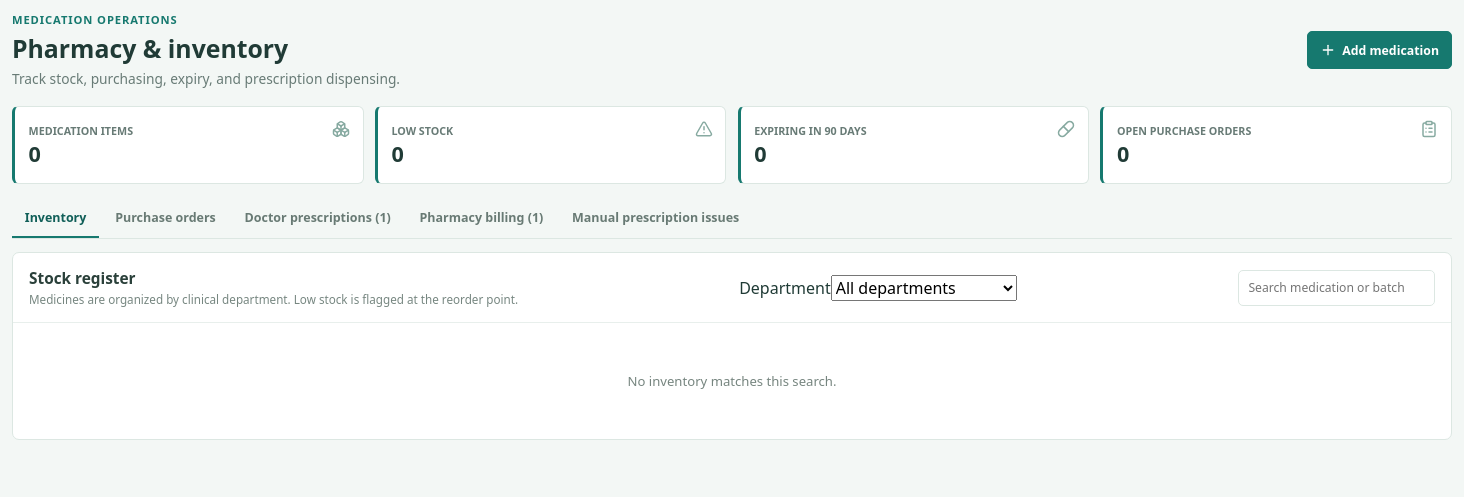
pharmacy records cash against a prescription bill before enabling dispense
What coordinates should you click on to do the following:
click the tab "Pharmacy billing (1)"
I would click on:
 (481, 218)
Its box is [407, 198, 556, 238].
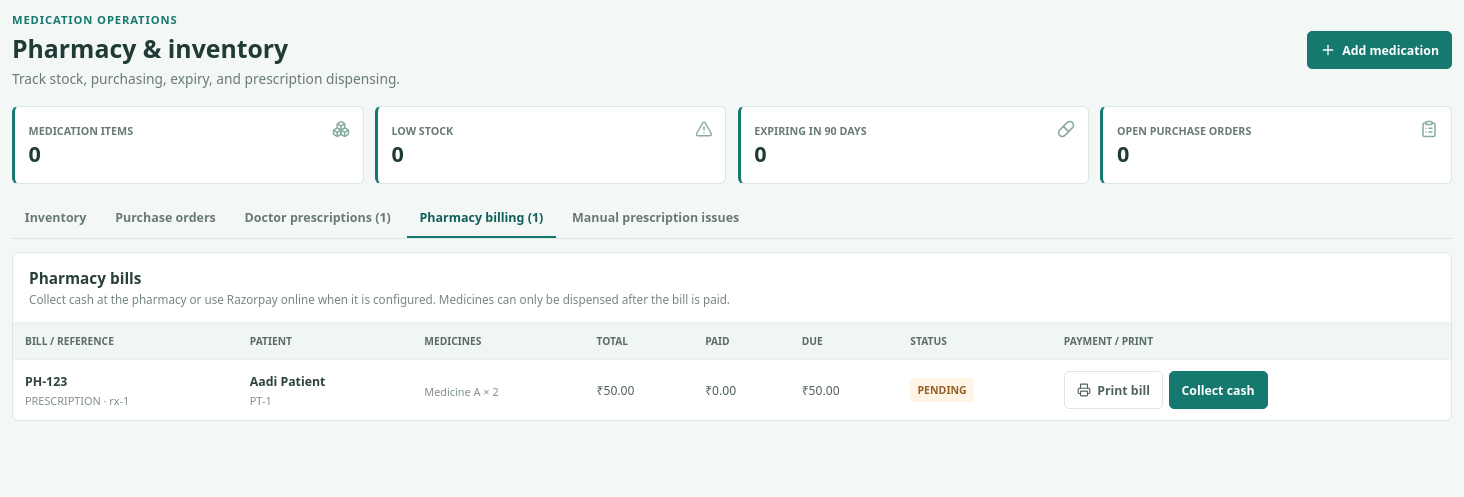
Now the text "PH-123" is shown, box [25, 373, 67, 390]
What coordinates should you click on to do the following:
click the button "Collect cash"
I would click on:
 (1218, 390)
Its box is [1168, 371, 1268, 409].
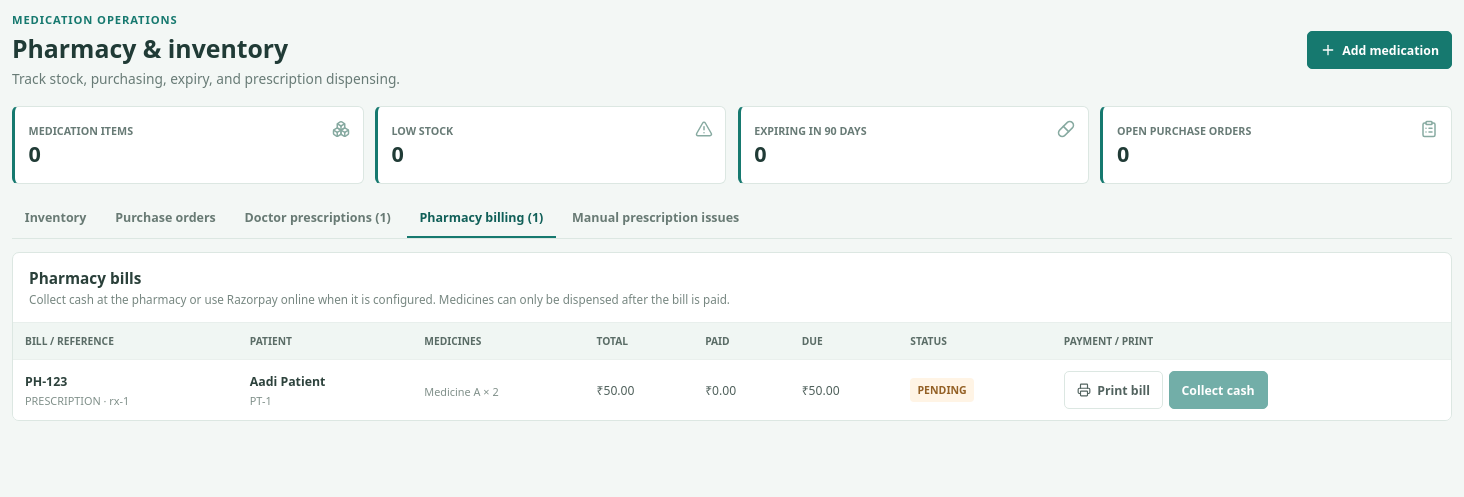
What coordinates should you click on to do the following:
click the tab "Doctor prescriptions (1)"
I would click on:
 (318, 218)
Its box is [232, 198, 404, 238].
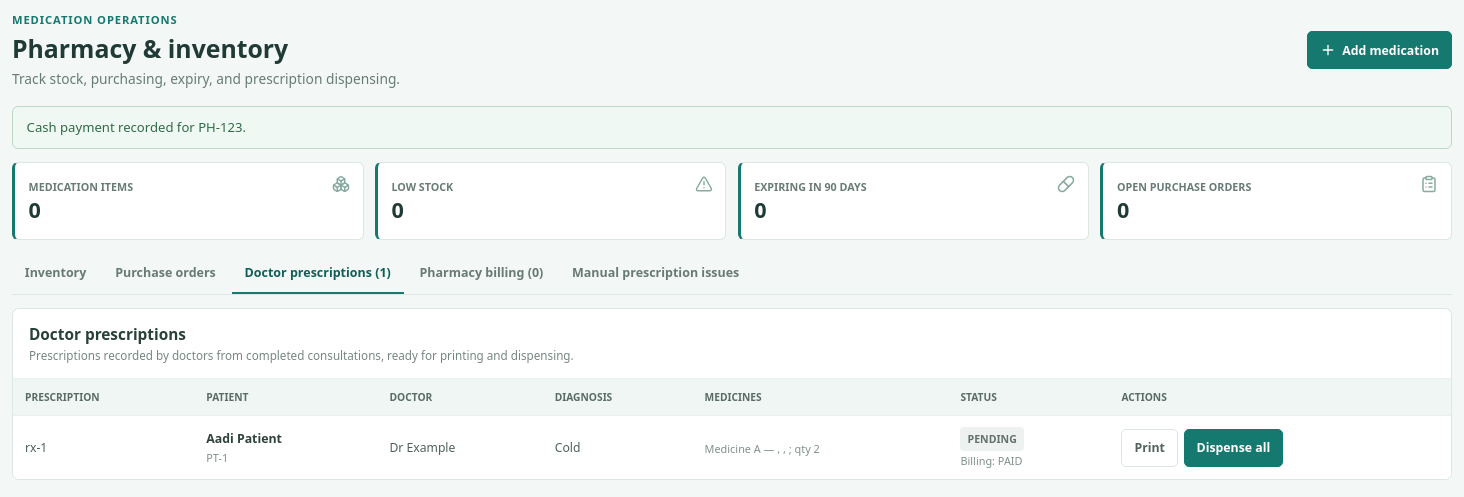
Now the button "Dispense all" is enabled
What coordinates should you click on to do the following:
click the button "Dispense all"
I would click on:
 (1233, 448)
Its box is [1184, 429, 1283, 467].
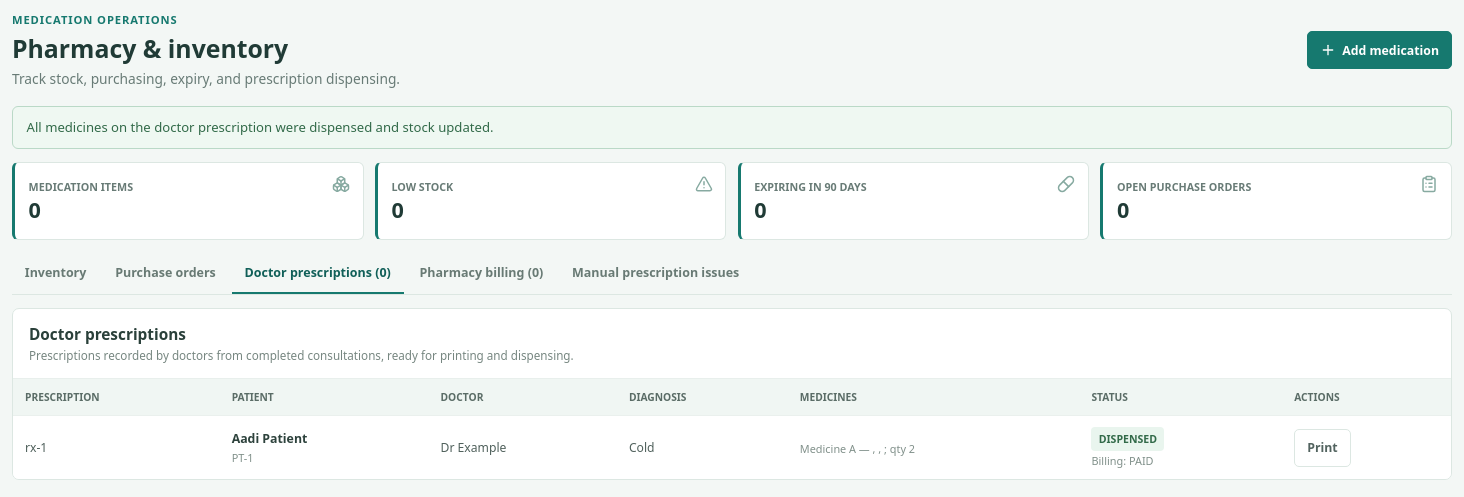
Now the text "All medicines on the doctor prescription were dispensed and stock updated." is shown, box [12, 106, 1452, 149]
